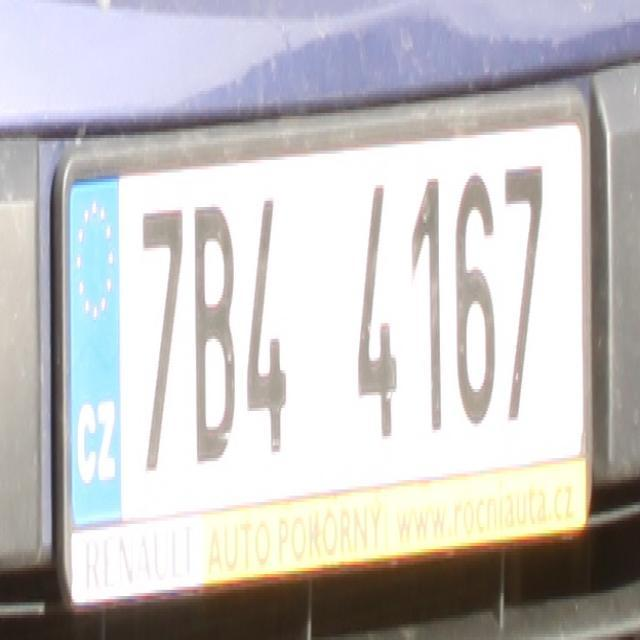1: (412, 169, 444, 436)
4: (243, 200, 290, 464), (352, 178, 396, 442)
6: (452, 170, 496, 418)
7: (140, 204, 182, 471), (500, 154, 542, 412)
B: (192, 195, 236, 464)
